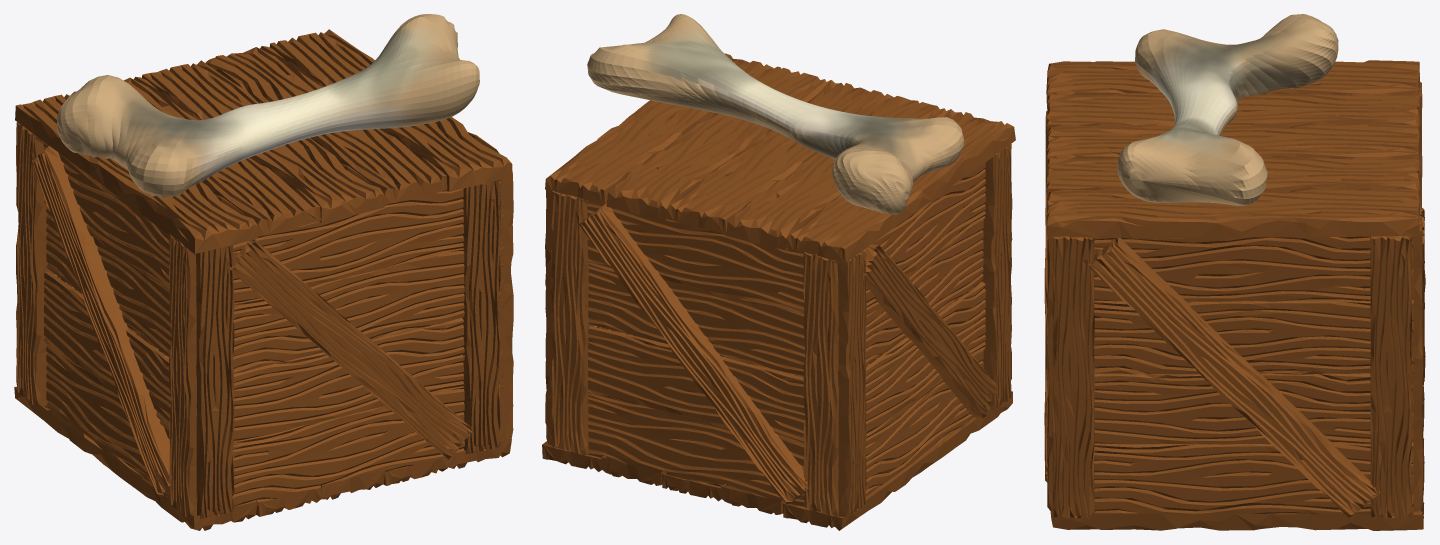
The model's file is Bone.glb.
3 views of the same model, side by side, from view 1: azimuth 30°, elevation 25°; view 2: azimuth 150°, elevation 25°; view 3: azimuth 270°, elevation 25° (orthographic). The views are drawn at different scales.
Visible parts, largest first — view 1: Sphere; view 2: Sphere; view 3: Sphere.
Part boxes in pixels (box(x1,y1,x2,y2)): Sphere: box(14, 14, 513, 530); Sphere: box(542, 14, 1015, 530); Sphere: box(1044, 14, 1425, 530).
Size of the model in its own units: 1.19 by 1.16 by 1.03.
Materials: 39 (1 with a texture image).
